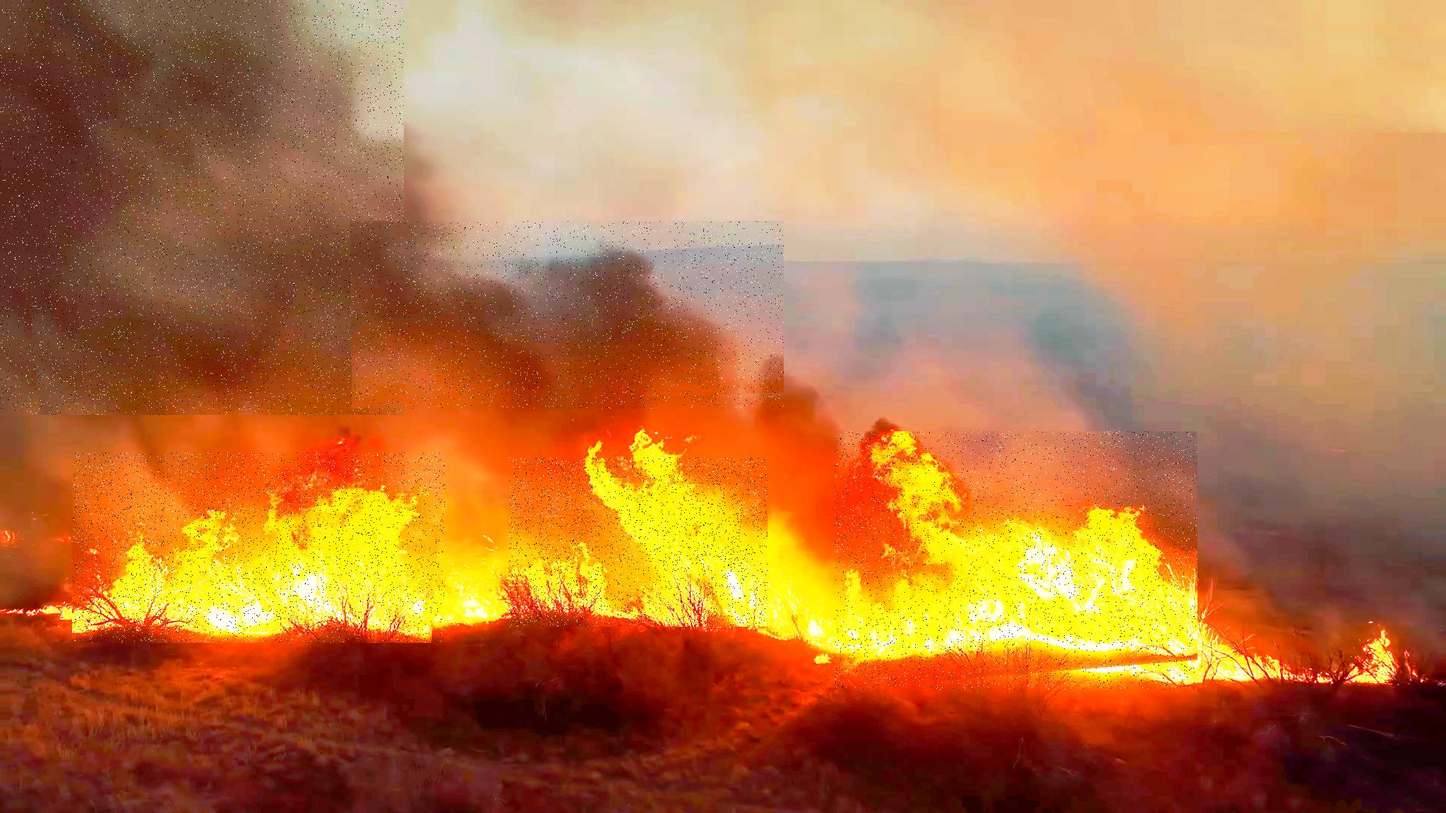fire: (835, 431, 1197, 689), (72, 452, 445, 643), (509, 457, 767, 627)
smoke: (0, 0, 404, 415), (350, 221, 784, 409), (969, 0, 1446, 133)
